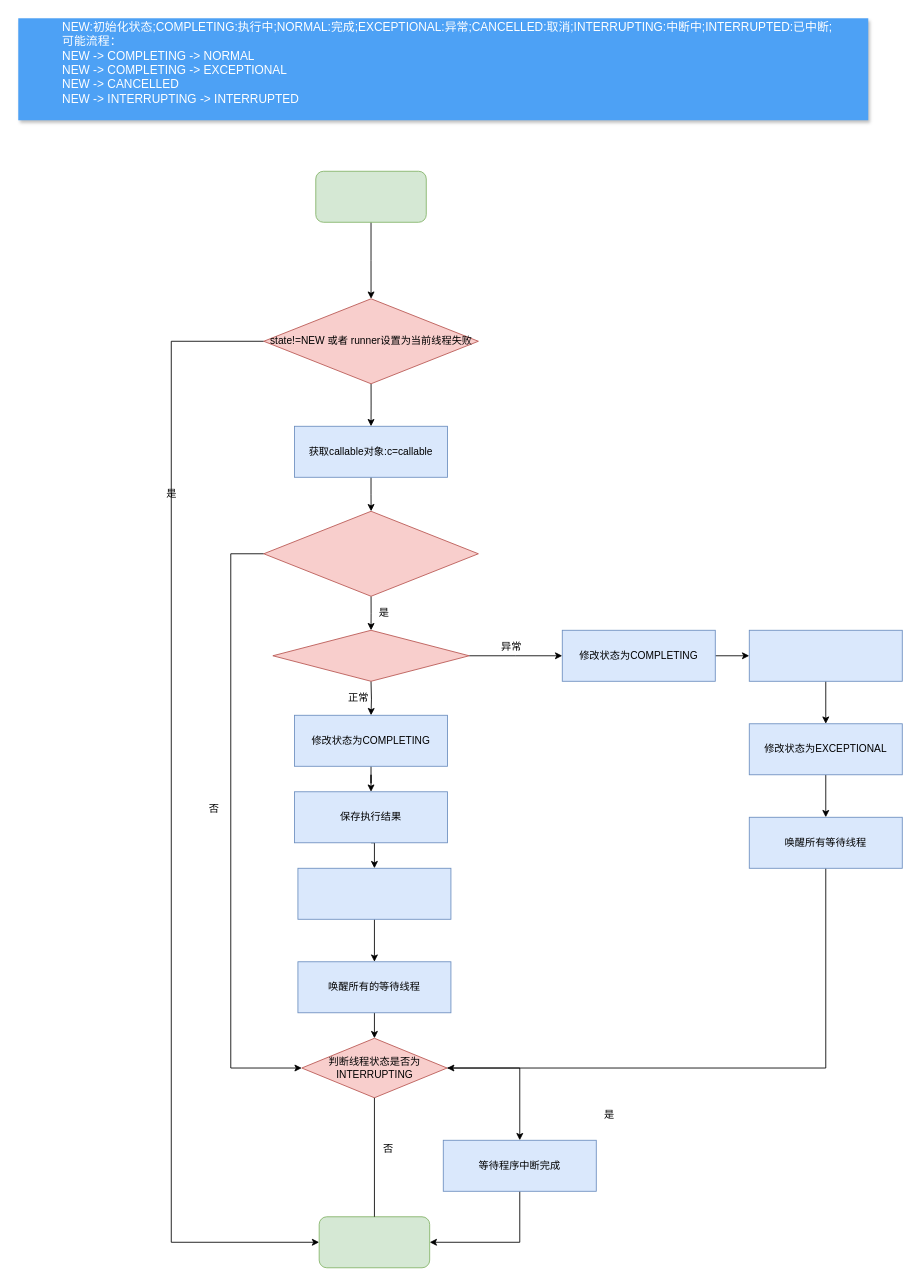
This 917x1283 diagram has some shape labels left out. The centre of each missing label's shape, as x and y in pixels:
c != null && state不为初始化状态: [370,553]
FutureTask开始执行: [370,196]
保存异常信息和堆栈: [825,655]
修改状态为NORMAL: [374,893]
执行业务逻辑：result=c.call(): [370,655]
结束: [374,1242]
